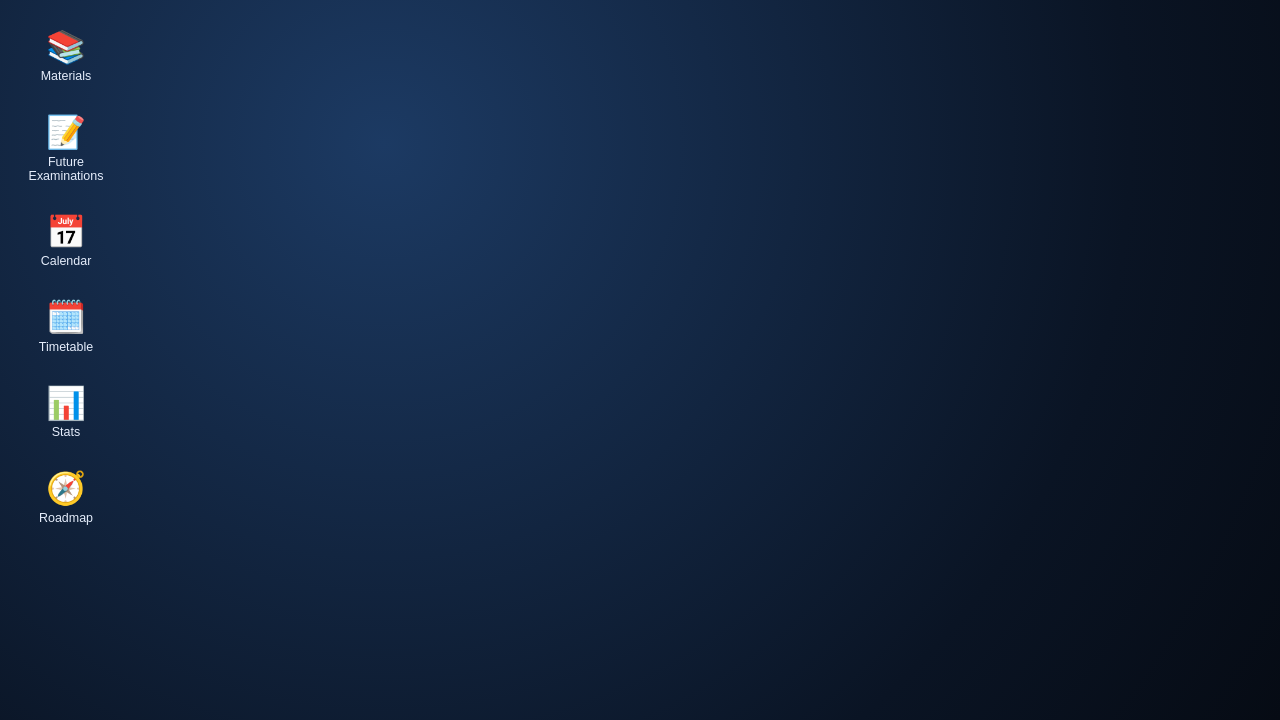
Test: DesktopEnvironment › opening an app adds a window to the open-window state
Click the list item with test id "desktop-icon-materials".
click(66, 57)  # box [20, 20, 112, 94]
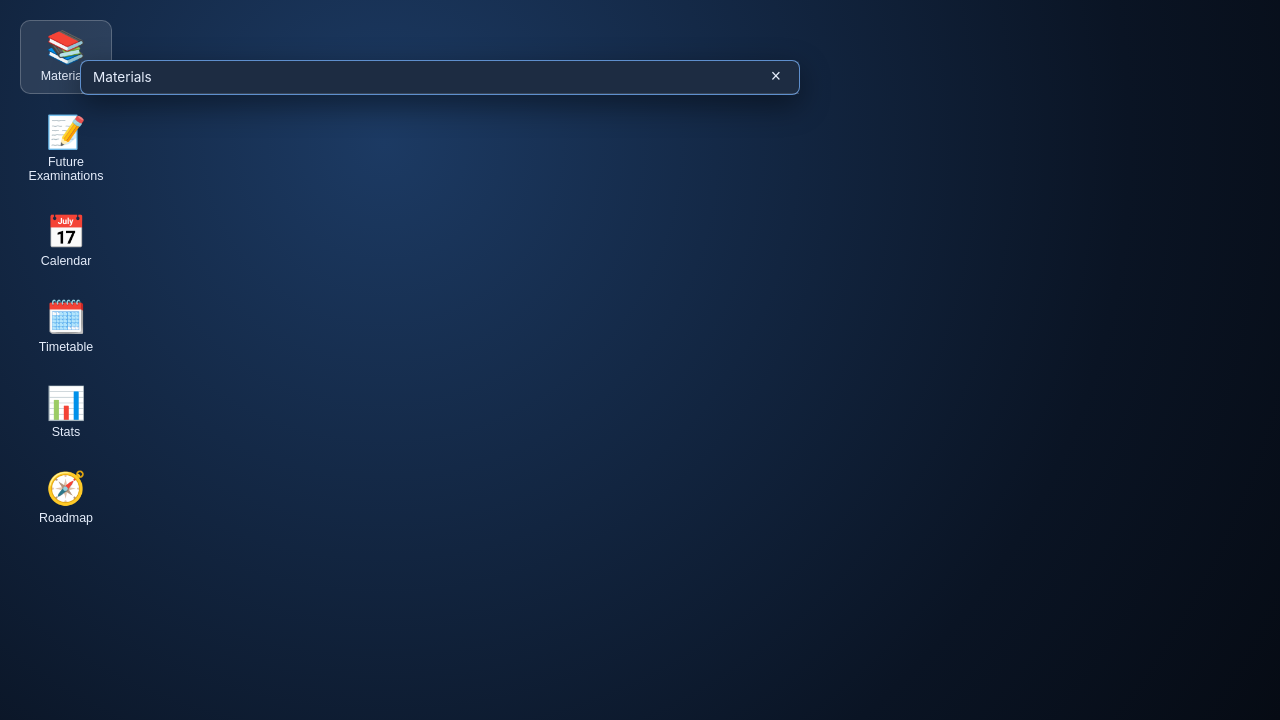
Now the element with test id "window-materials" is shown, box [80, 60, 800, 95]
